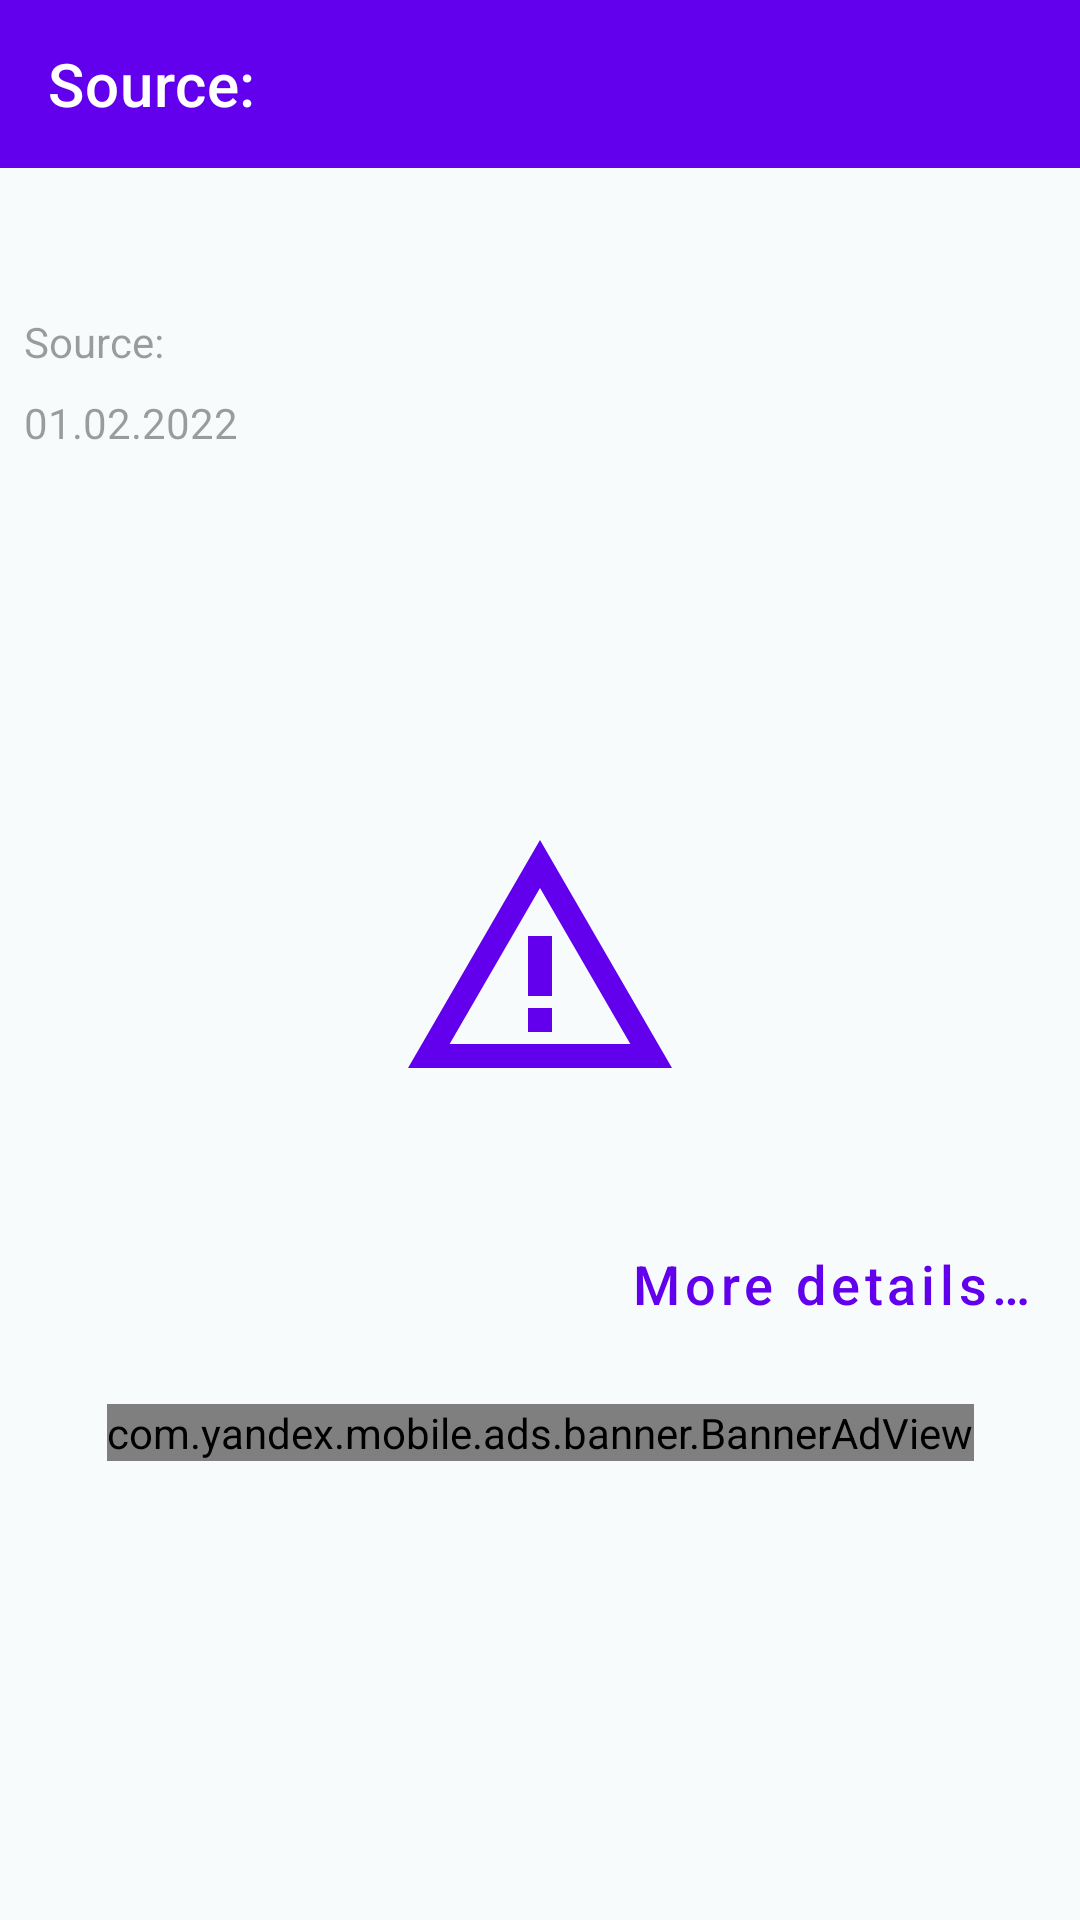

Where to tap for icons on this 1080w x 1920h app screen, as point (x, y):
warning amber: point (540, 954)
